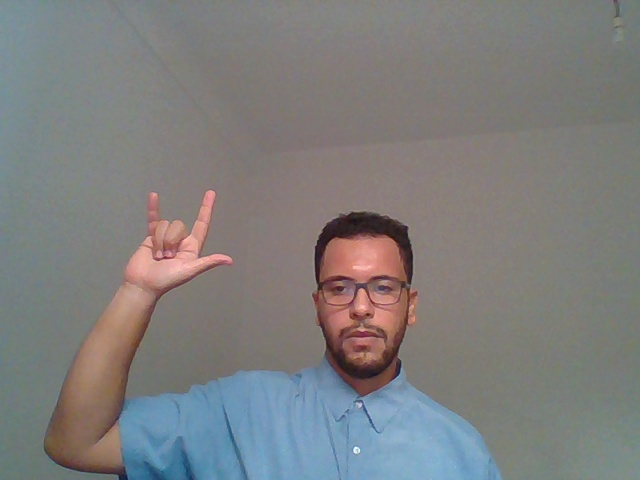iloveyou: (71, 130, 247, 378)
